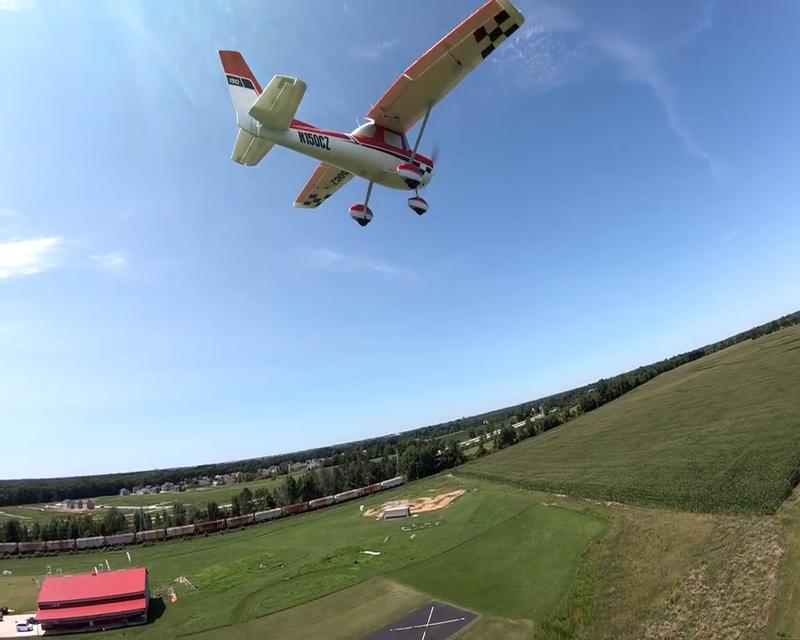UAV: (218, 0, 526, 226)
